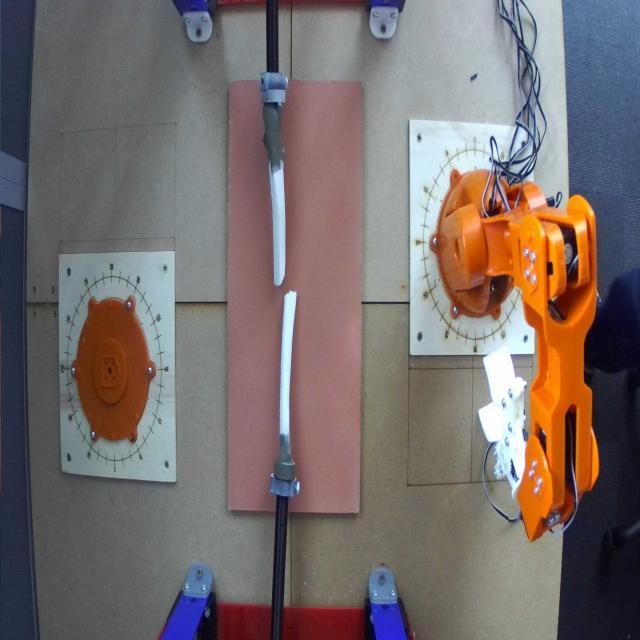bone: (272, 294, 302, 446), (268, 129, 290, 288)
